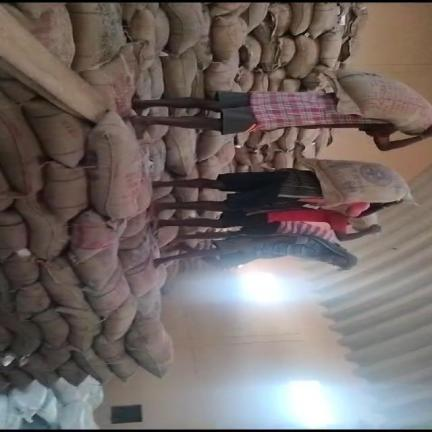Zone-Counting: (132, 72, 431, 151), (156, 158, 412, 219)
